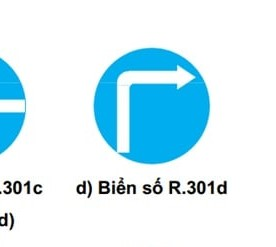Turn_right: (91, 45, 211, 166)
